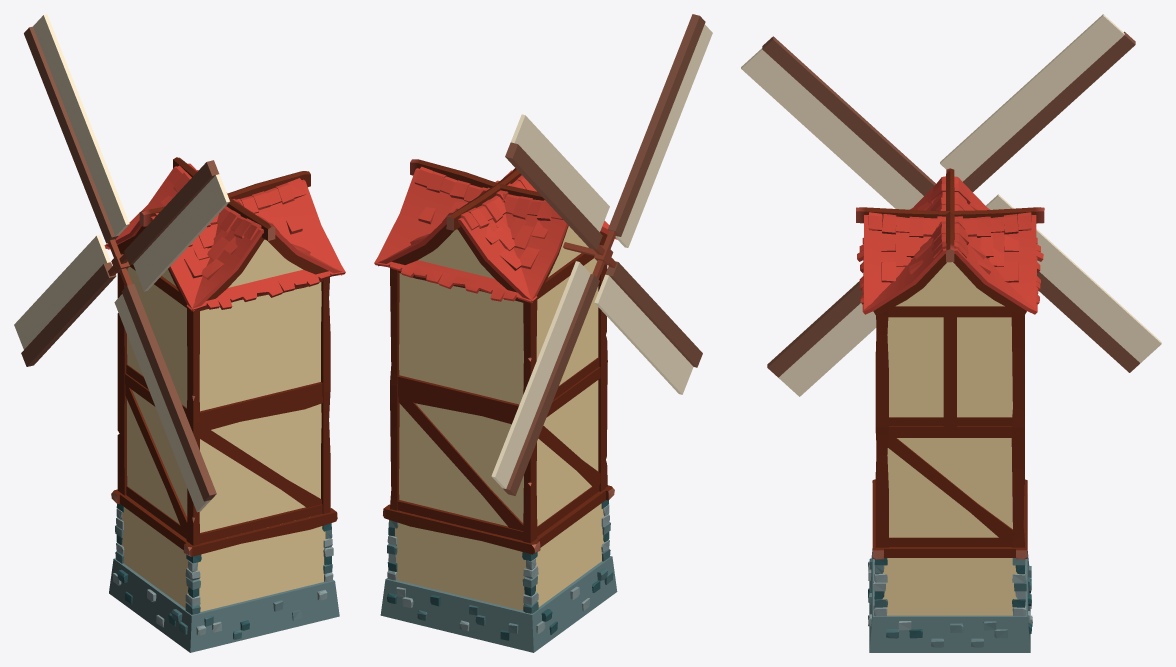
Rendered from SM_Windmill.fbx.
3 renders of one model, left to right at view 1: azimuth 30°, elevation 25°; view 2: azimuth 150°, elevation 25°; view 3: azimuth 270°, elevation 25°, orthographic. The views are drawn at different scales.
Parts seen in each view (by area): view 1: Cube.032, Cube.038; view 2: Cube.032, Cube.038; view 3: Cube.032, Cube.038.
Boxes of the visible parts, x1,y1,x2,y2 form: Cube.032: (104, 157, 345, 652); Cube.038: (14, 14, 229, 512); Cube.032: (374, 159, 617, 652); Cube.038: (491, 14, 712, 495); Cube.032: (856, 168, 1044, 652); Cube.038: (741, 14, 1161, 396).
Bounding box in the file's own units: 274 × 760 × 524.
